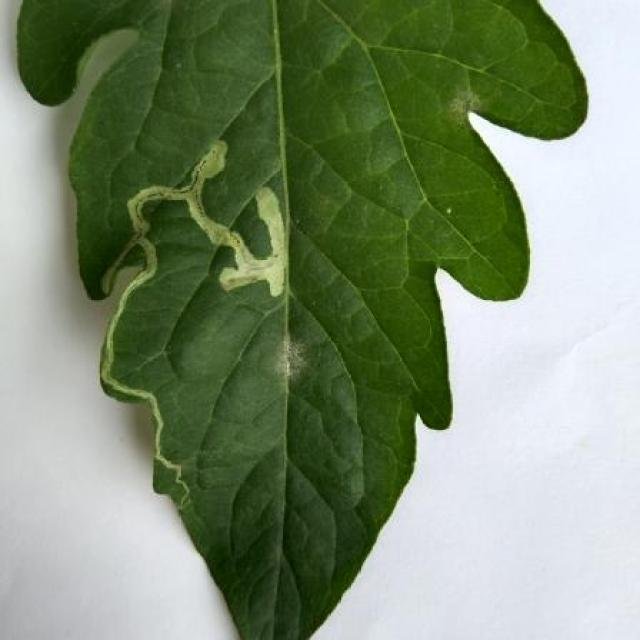Leaf Miner: (18, 0, 591, 640)
